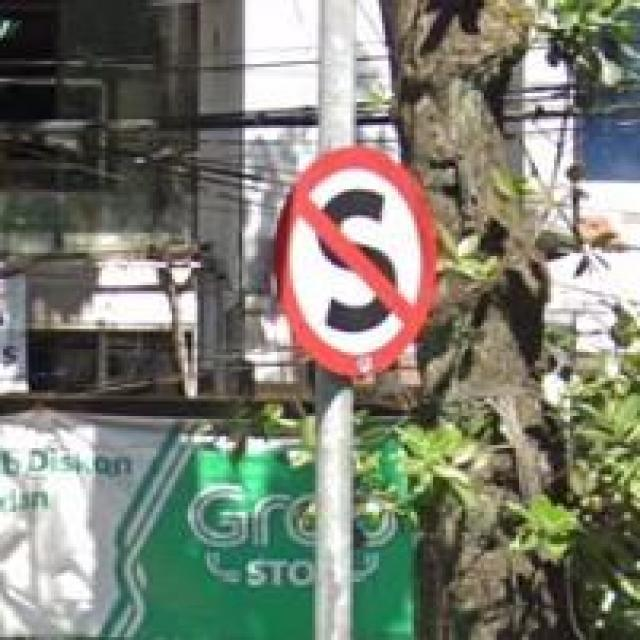do_not_stop: (277, 152, 443, 376)
